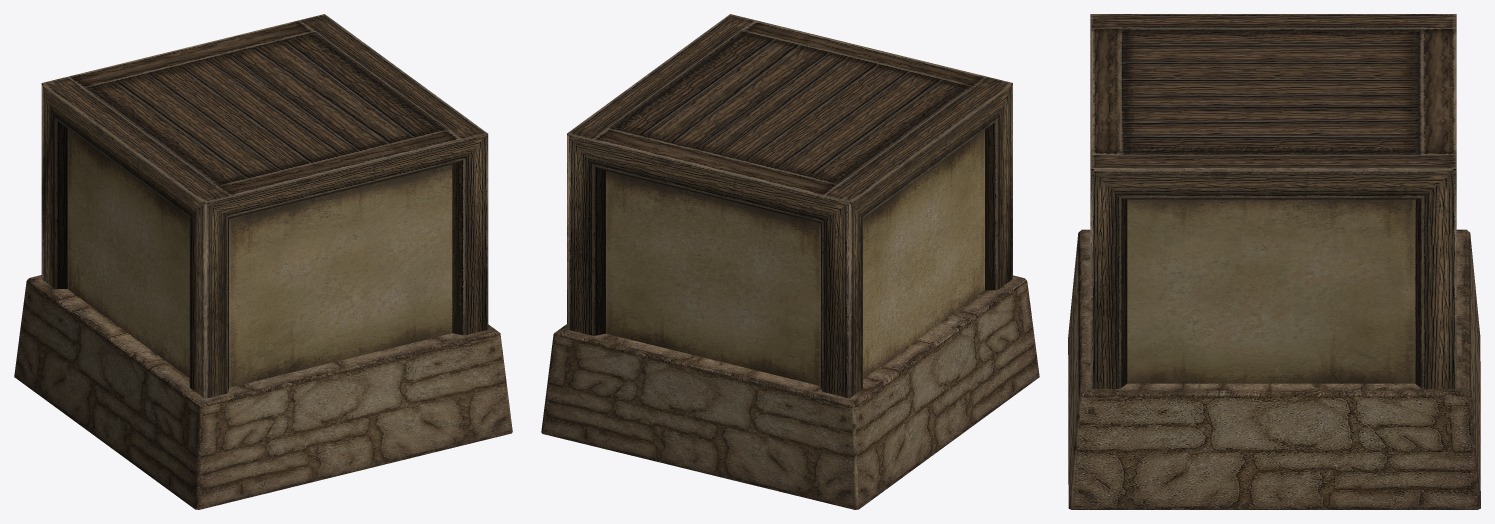
File: House_4X4_02a.fbx
The picture shows the model from 3 angles, left to right: view 1: azimuth 30°, elevation 25°; view 2: azimuth 150°, elevation 25°; view 3: azimuth 270°, elevation 25°; orthographic projection. The views are drawn at different scales.
Visible parts, largest first — view 1: House_4X4_02a; view 2: House_4X4_02a; view 3: House_4X4_02a.
Part boxes in pixels (bbox=[...]): House_4X4_02a: bbox=[14, 14, 512, 509]; House_4X4_02a: bbox=[541, 14, 1039, 509]; House_4X4_02a: bbox=[1068, 14, 1480, 509].
Size of the model in its own units: 4.49 by 4 by 4.5.
